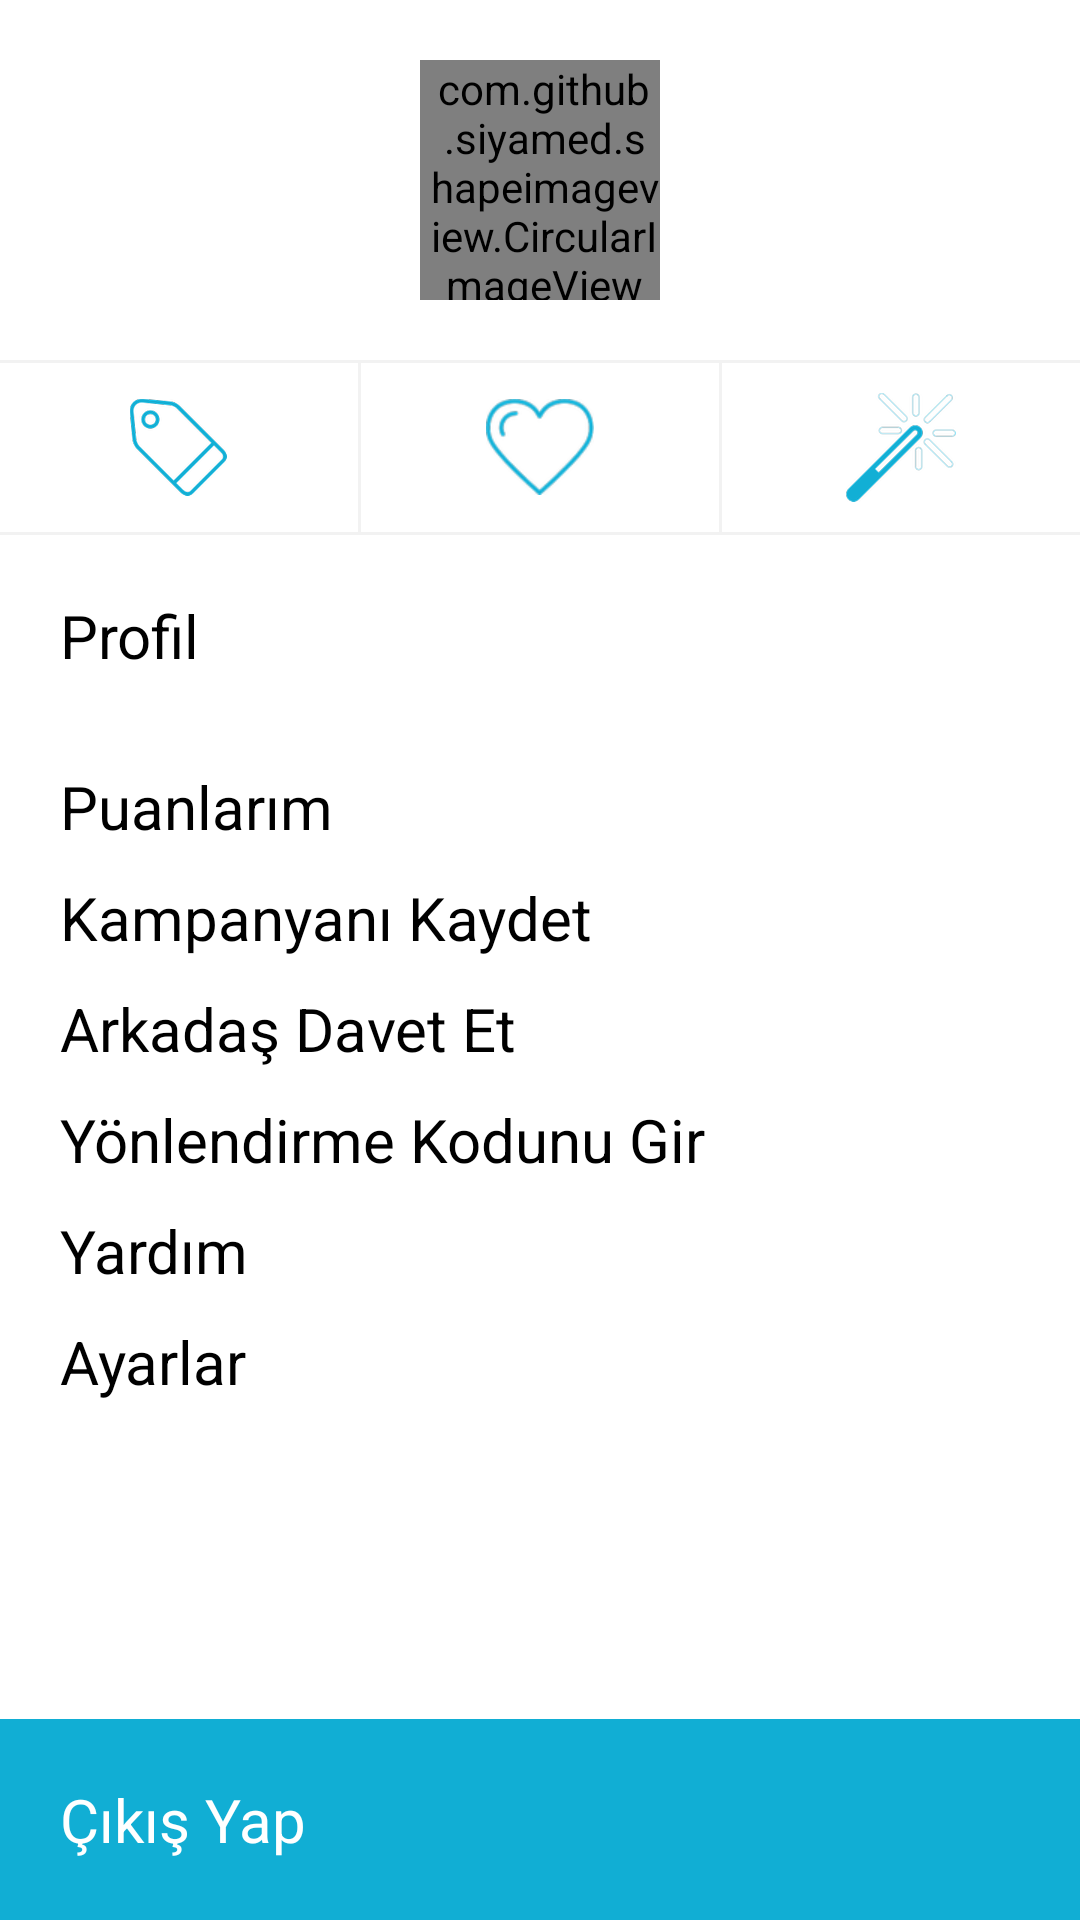

Where icons sit on this 1080w x 1920h app screen, as (x1, y1, x2, y2):
slidingmenu etiket: (130, 399, 227, 496)
slidingmenu fav: (486, 399, 594, 495)
slidingmenu wish: (846, 393, 956, 502)
